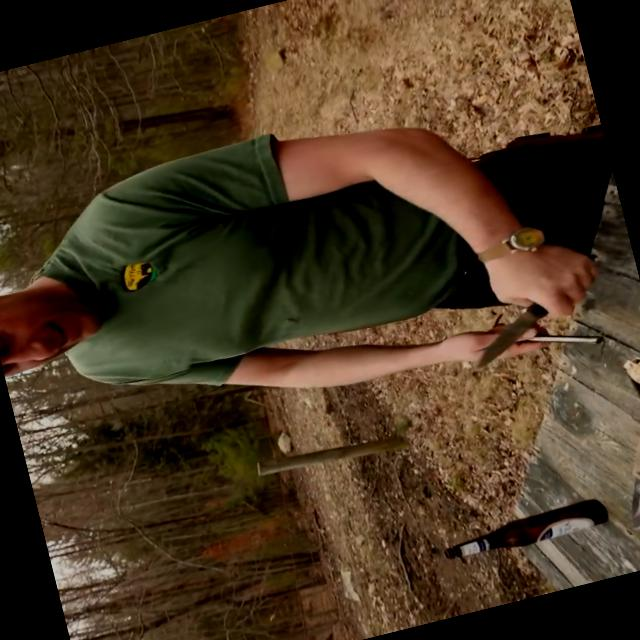knife: (441, 248, 618, 378)
